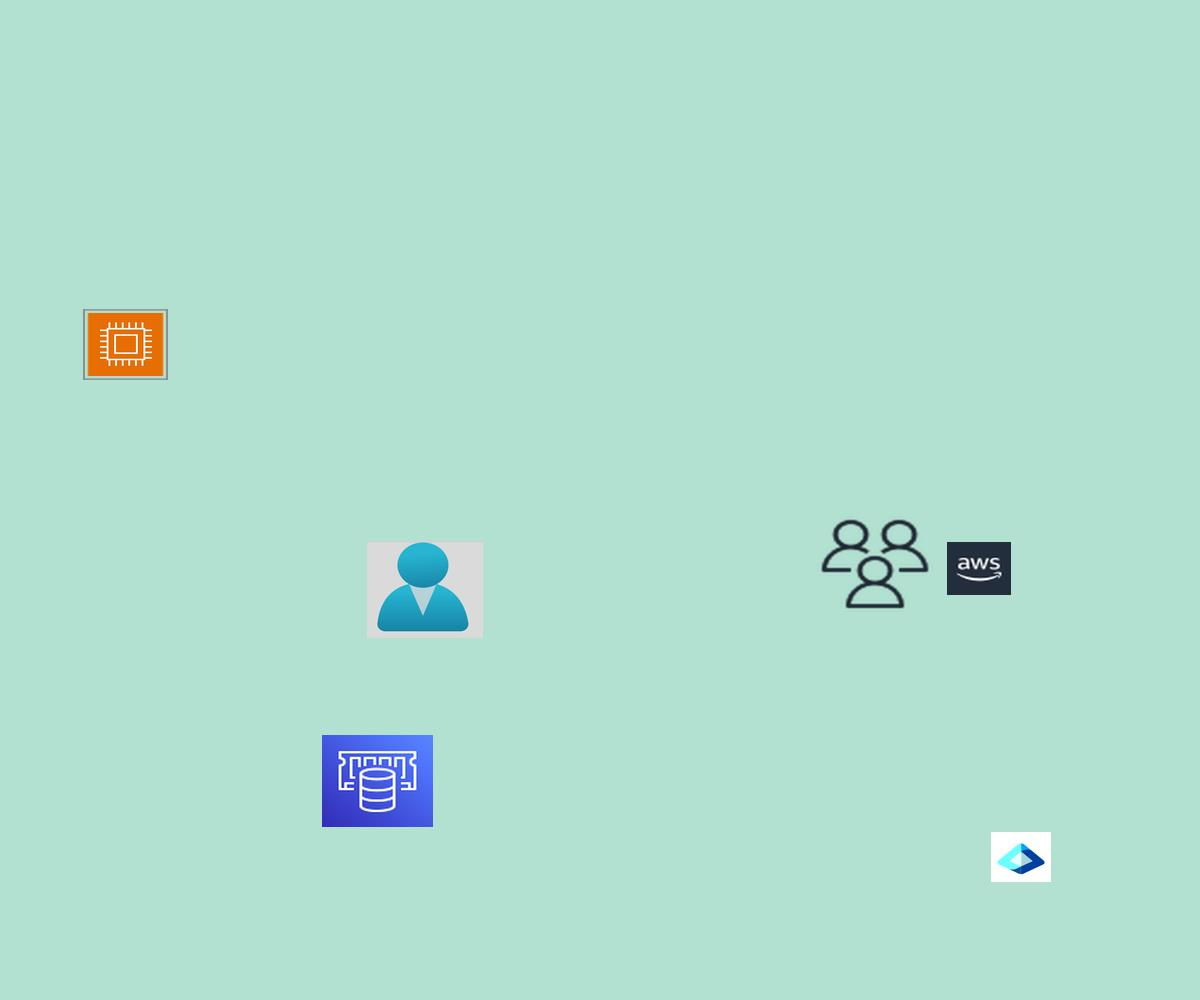AWS-Category_Compute: (83, 309, 168, 380)
AWS-Cloud-logo: (947, 542, 1011, 595)
AWS-ElastiCache: (322, 735, 433, 827)
AWS-Res_Users: (817, 516, 933, 612)
Azure_microsoft_entra: (991, 832, 1051, 882)
Azure_users: (367, 541, 483, 638)
